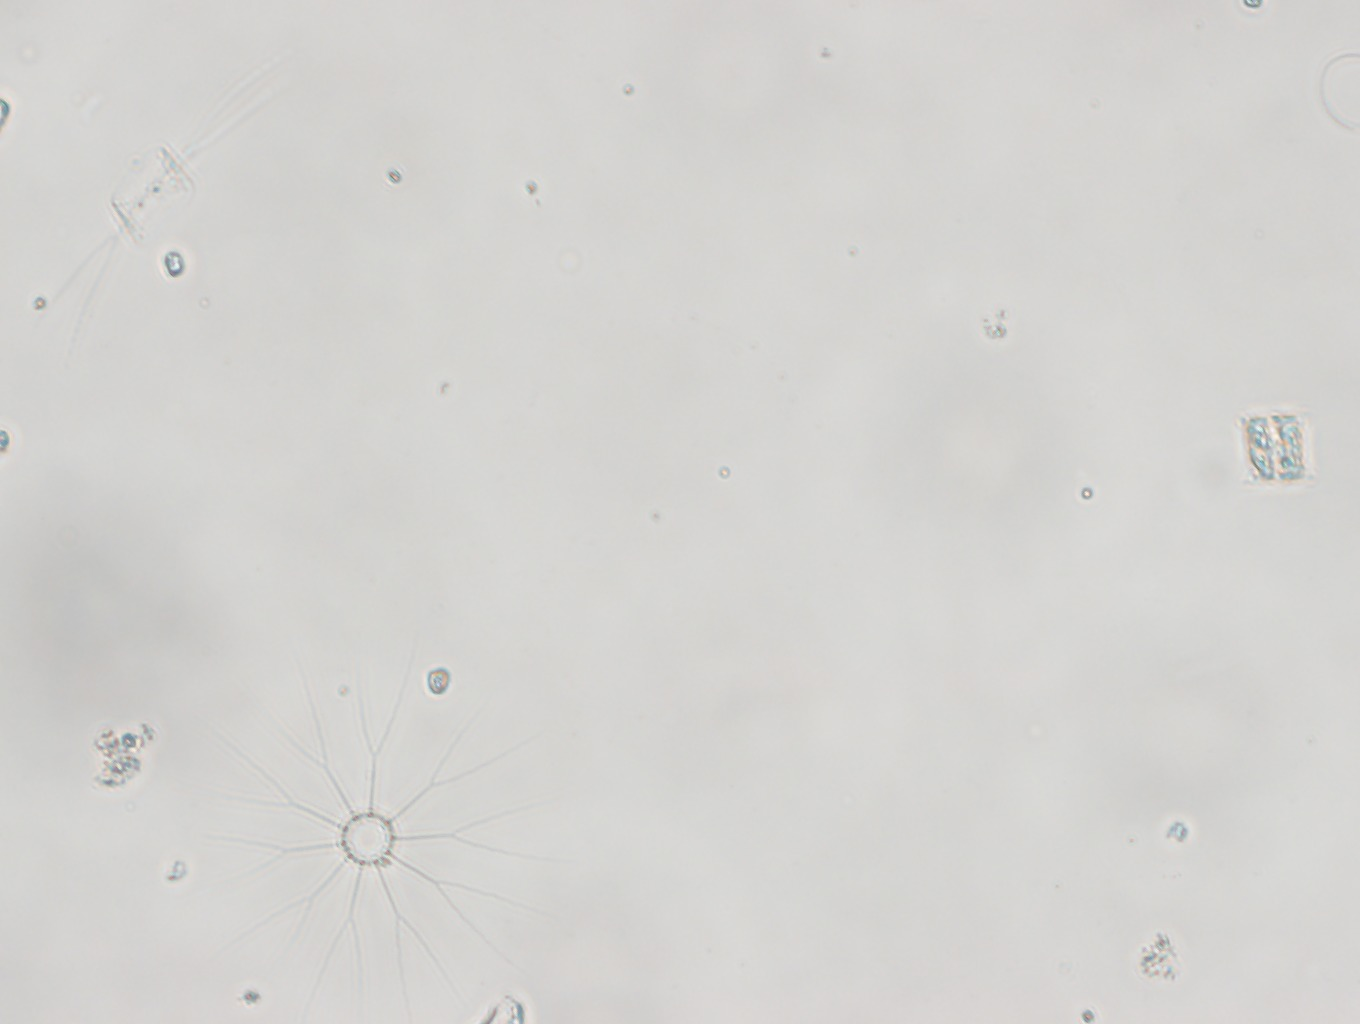bacteriastrum: (187, 656, 560, 1016)
chaetoceros: (29, 45, 329, 352)
